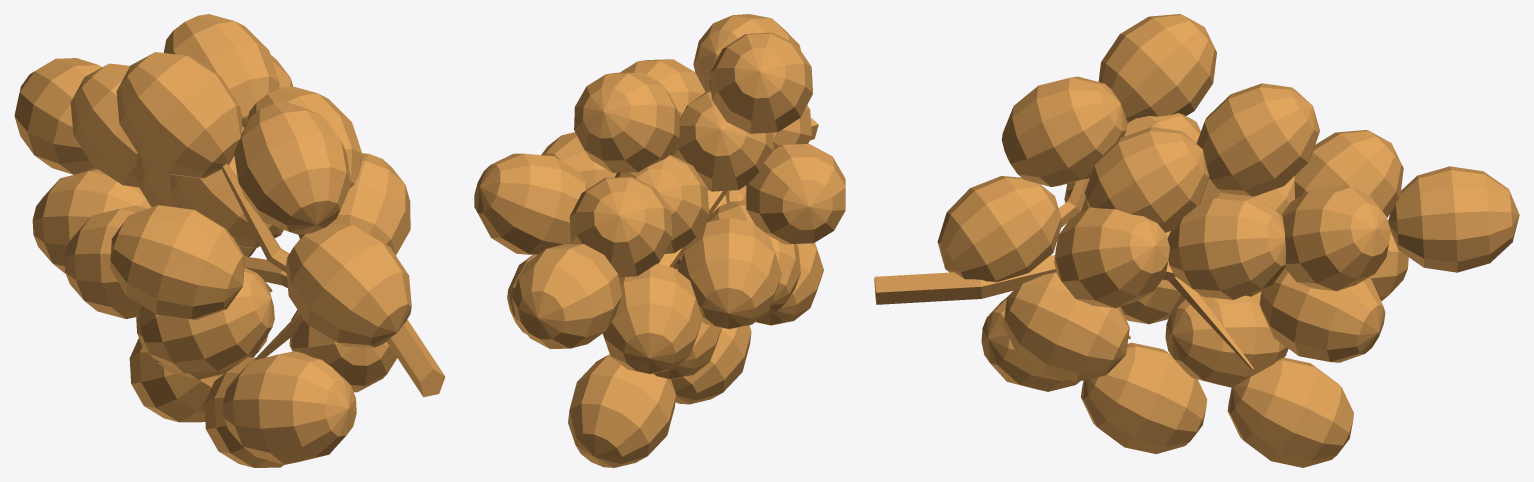
File: grape1_6.dae
3 views of the same model, side by side, from view 1: azimuth 30°, elevation 25°; view 2: azimuth 150°, elevation 25°; view 3: azimuth 270°, elevation 25° (orthographic). The views are drawn at different scales.
Parts seen in each view (by area): view 1: grape1_019; view 2: grape1_019; view 3: grape1_019.
Boxes of the visible parts, x1,y1,x2,y2 form: grape1_019: (14,14,445,467); grape1_019: (474,14,845,467); grape1_019: (874,14,1519,467).
Bounding box in the file's own units: 0.1 × 0.2142 × 0.1483.
